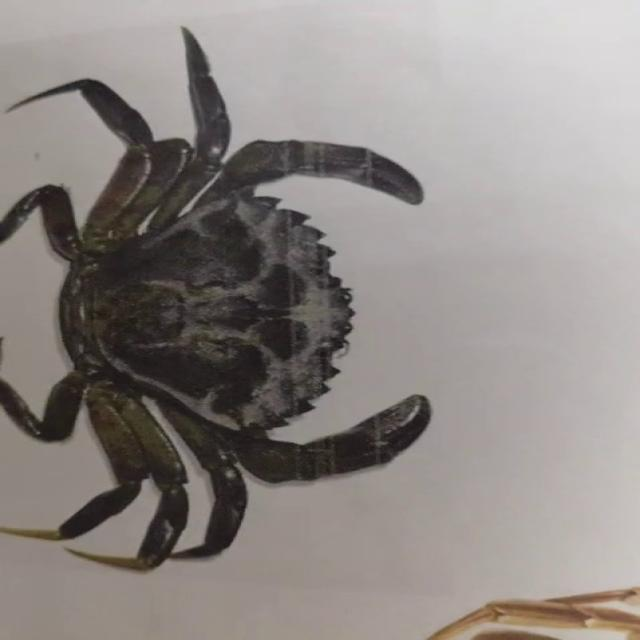egc: (0, 29, 428, 571)
